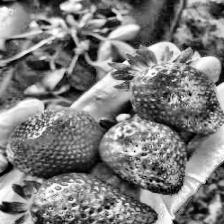Anthracnose Fruit Rot: (110, 130, 185, 196), (156, 84, 222, 132), (96, 192, 124, 215)
